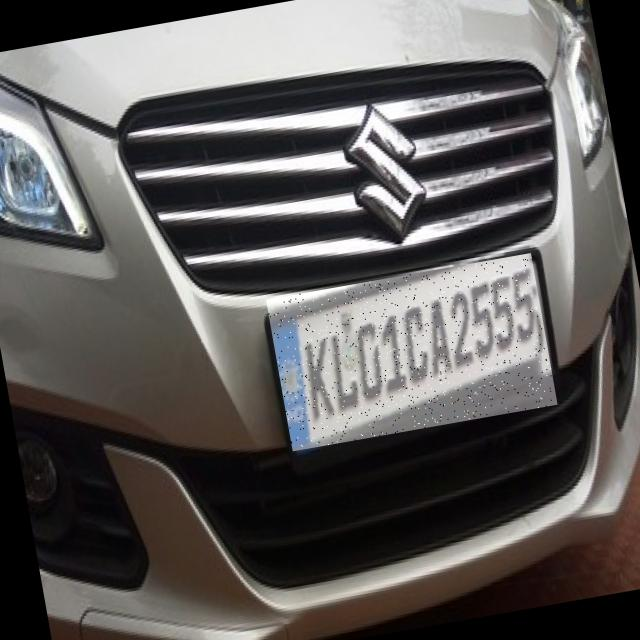Plate: (267, 254, 559, 452)
